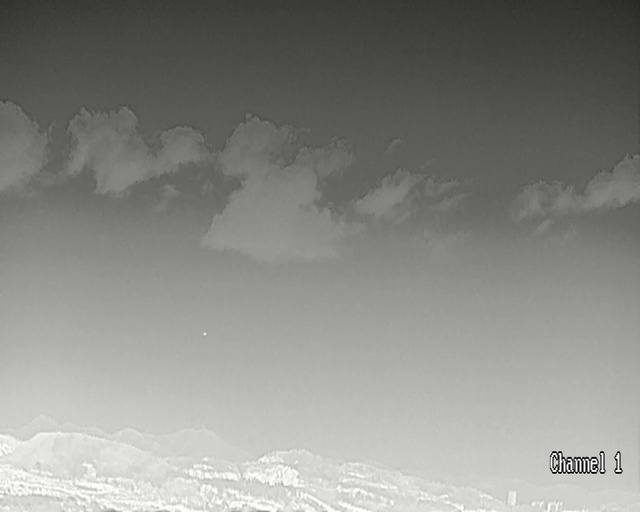uav: (203, 332, 206, 335)
